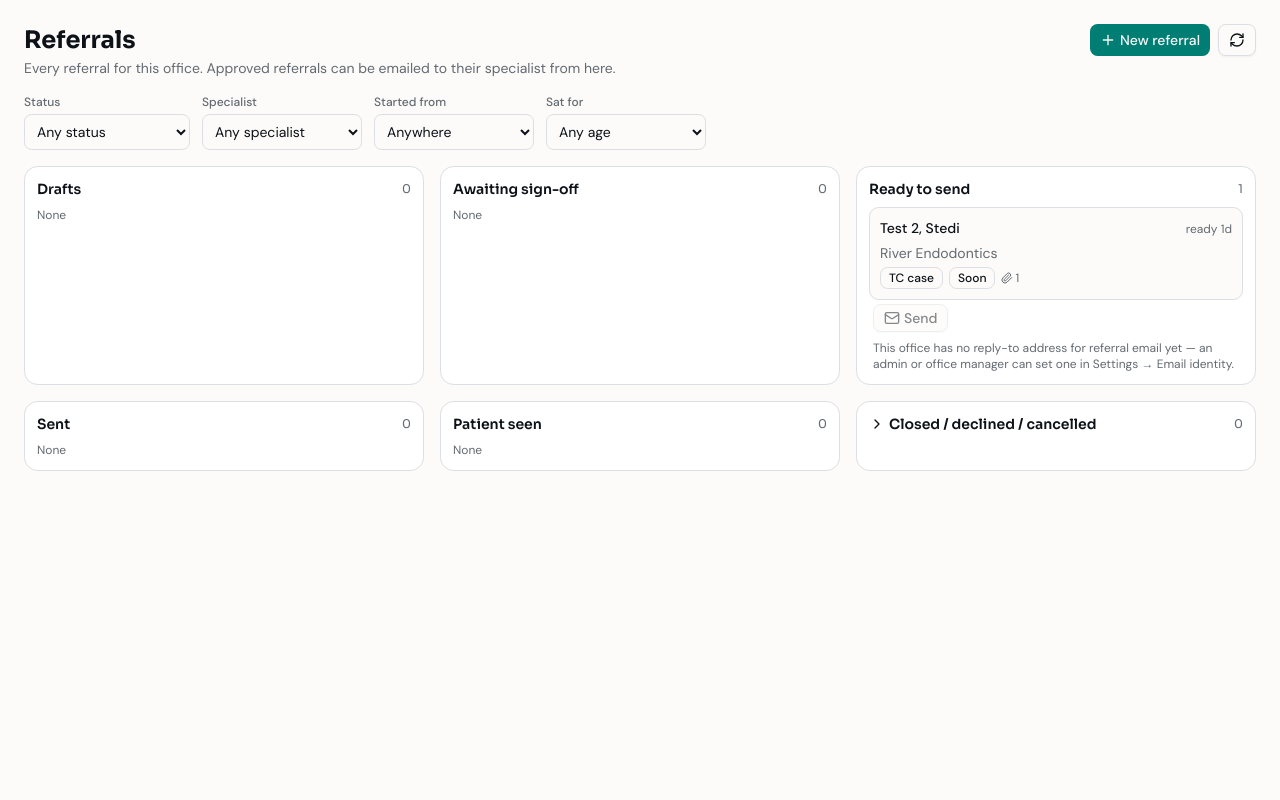
Test: the detail panel › an office that cannot send yet says why
What coordinates should you click on to do the following:
click the button with test id "tc-hub-card"
I would click on:
 (920, 228)
Its box is [869,207,1243,300].
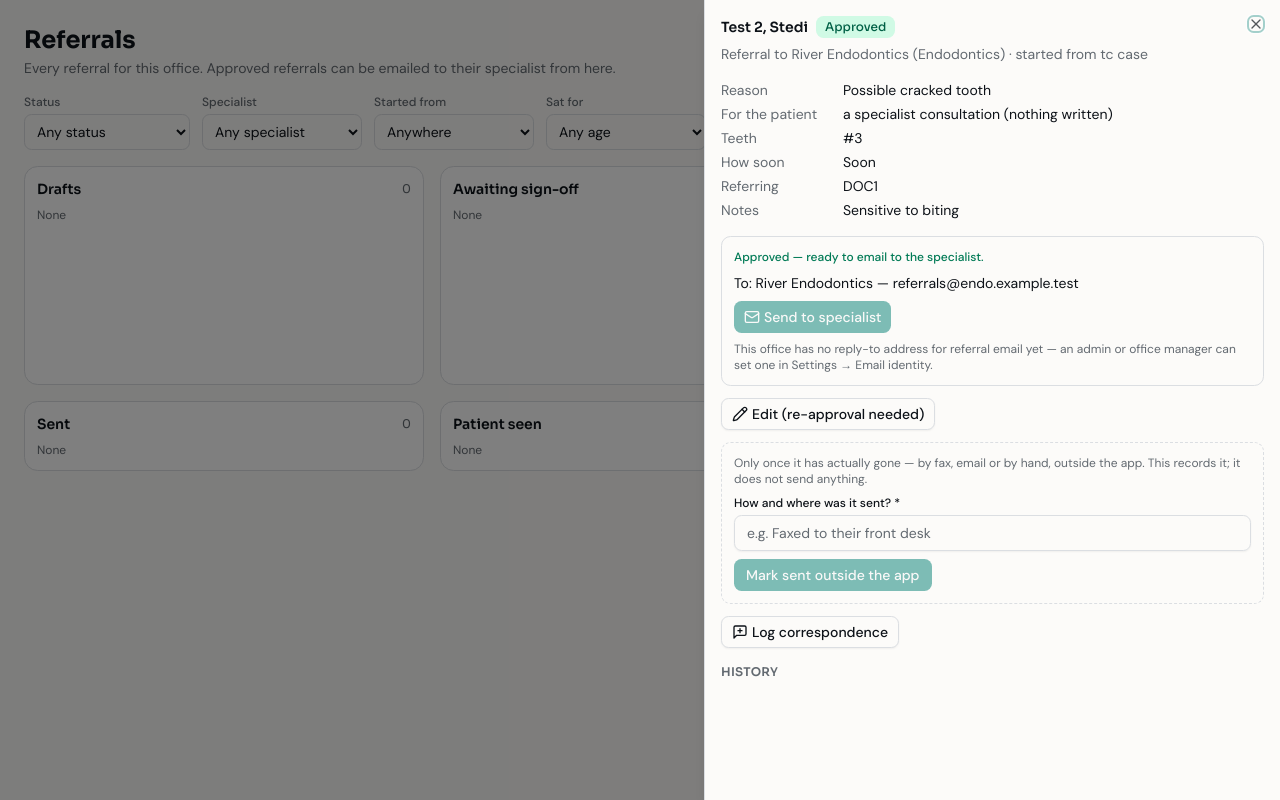
Expected: the button with test id "tc-hub-send-button" is disabled, [734,301,892,333]
Expected: the text with test id "tc-hub-send-blocked" shows "This office has no reply-to address for referral email yet — an admin or office manager can set one in Settings → Email identity.", [734,341,1236,373]
